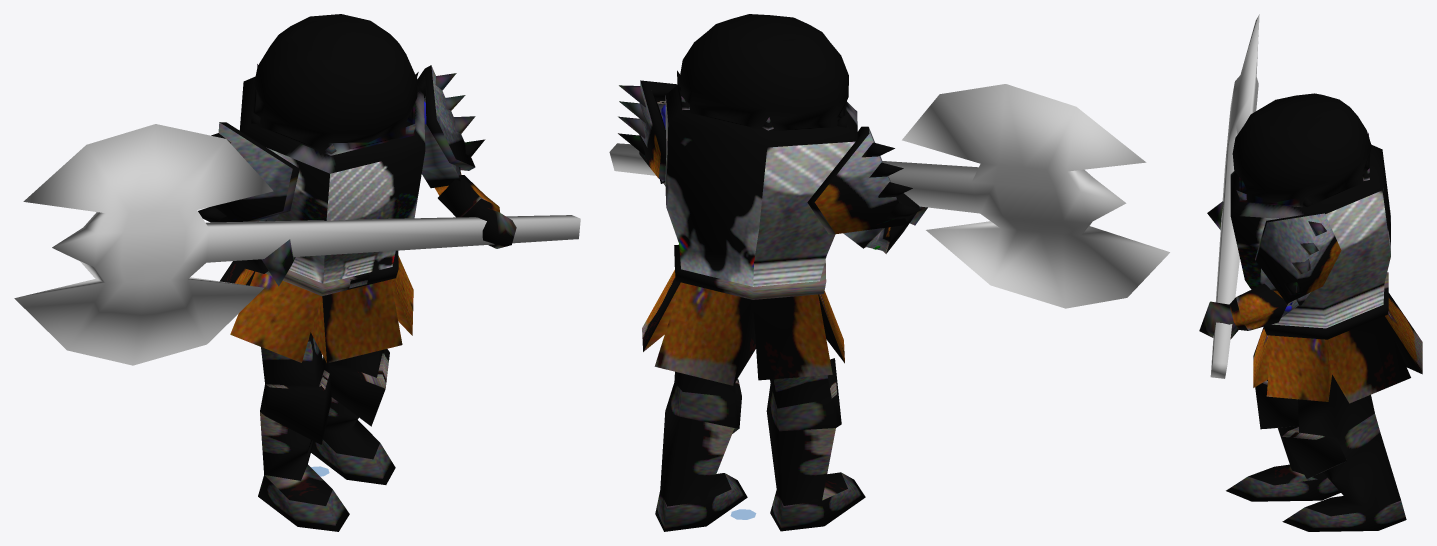
The model's file is Pesado.obj.
The picture shows the model from 3 angles, left to right: view 1: azimuth 30°, elevation 25°; view 2: azimuth 150°, elevation 25°; view 3: azimuth 270°, elevation 25°; orthographic projection. The views are drawn at different scales.
Visible parts, largest first — view 1: Cylinder007, Axe; view 2: Cylinder007, Axe; view 3: Cylinder007, Axe.
Boxes of the visible parts, box(x1,y1,x2,y2) form: Cylinder007: box(198, 14, 516, 531); Axe: box(14, 124, 580, 365); Cylinder007: box(618, 14, 927, 531); Axe: box(609, 84, 1169, 308); Cylinder007: box(1199, 93, 1422, 531); Axe: box(1210, 14, 1259, 378).
Size of the model in its own units: 7.4 by 5.94 by 2.97.
